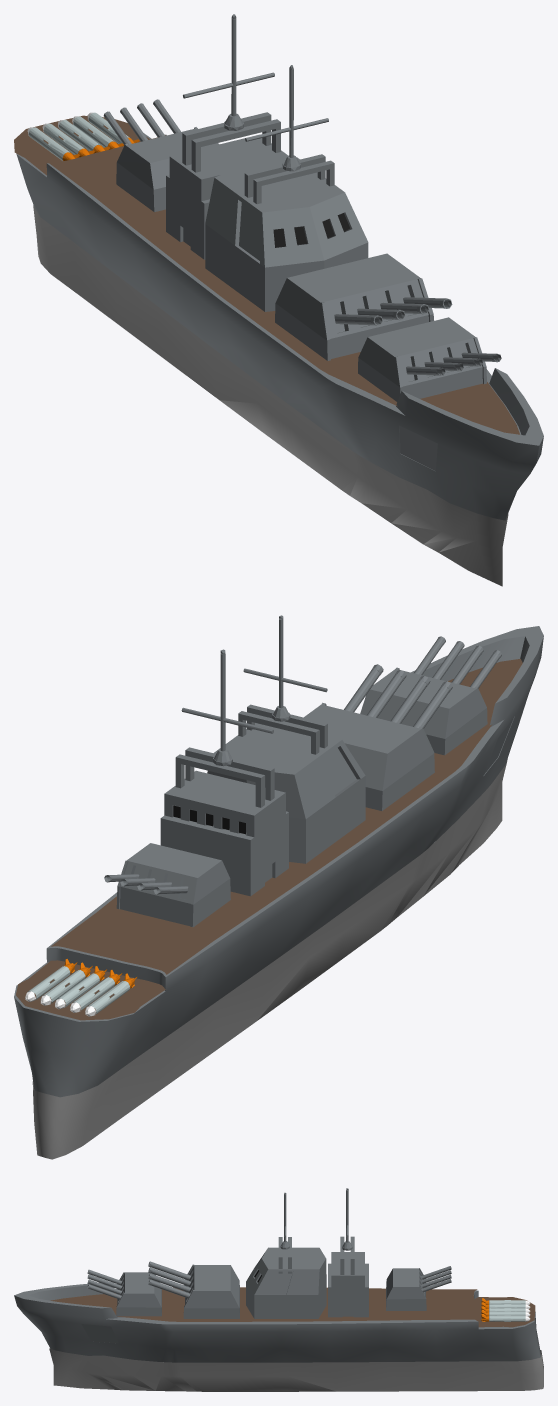
File: cimpletoon.f32c67875649.battleship.glb
3 renders of one model, top to bottom at view 1: azimuth 30°, elevation 25°; view 2: azimuth 150°, elevation 25°; view 3: azimuth 270°, elevation 25°, orthographic. The views are drawn at different scales.
Parts seen in each view (by area): view 1: battleship.glb; view 2: battleship.glb; view 3: battleship.glb.
Boxes of the visible parts, x1,y1,x2,y2 form: battleship.glb: (14,14,543,586); battleship.glb: (14,615,543,1159); battleship.glb: (14,1188,543,1391).
Size of the model in its own units: 0.7392 by 1.89 by 4.53.
1 material, 1 textured.
